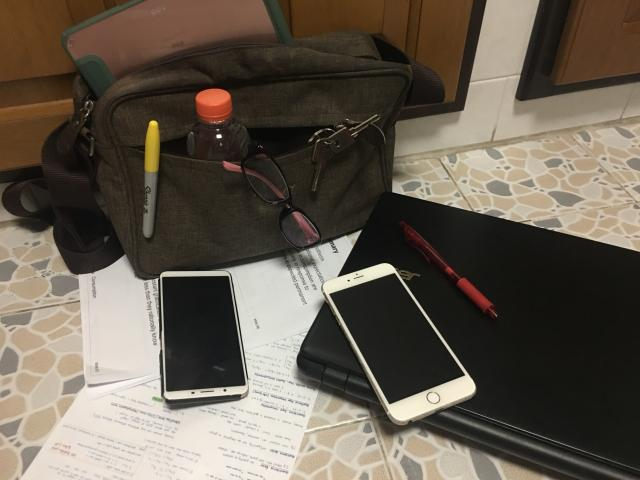Glasses: (222, 142, 321, 249)
Keys: (309, 114, 383, 191)
Mobile phone: (322, 264, 476, 425), (159, 270, 249, 406)
Pen: (399, 221, 498, 318), (142, 120, 160, 238)
bottle: (186, 89, 250, 162)
paper: (79, 235, 354, 399), (22, 329, 319, 479)
